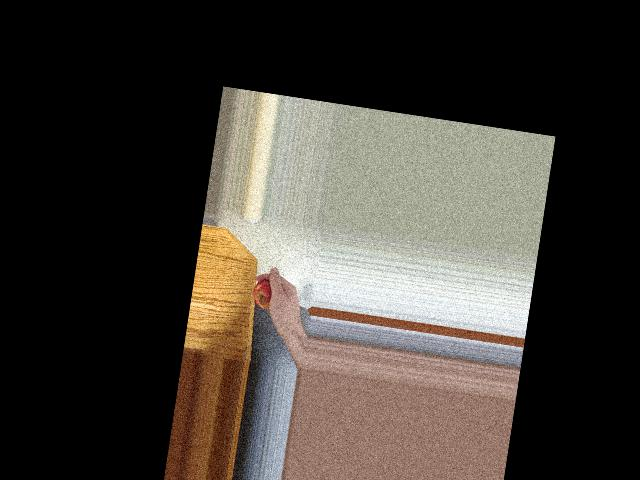apple: (249, 274, 281, 306)
